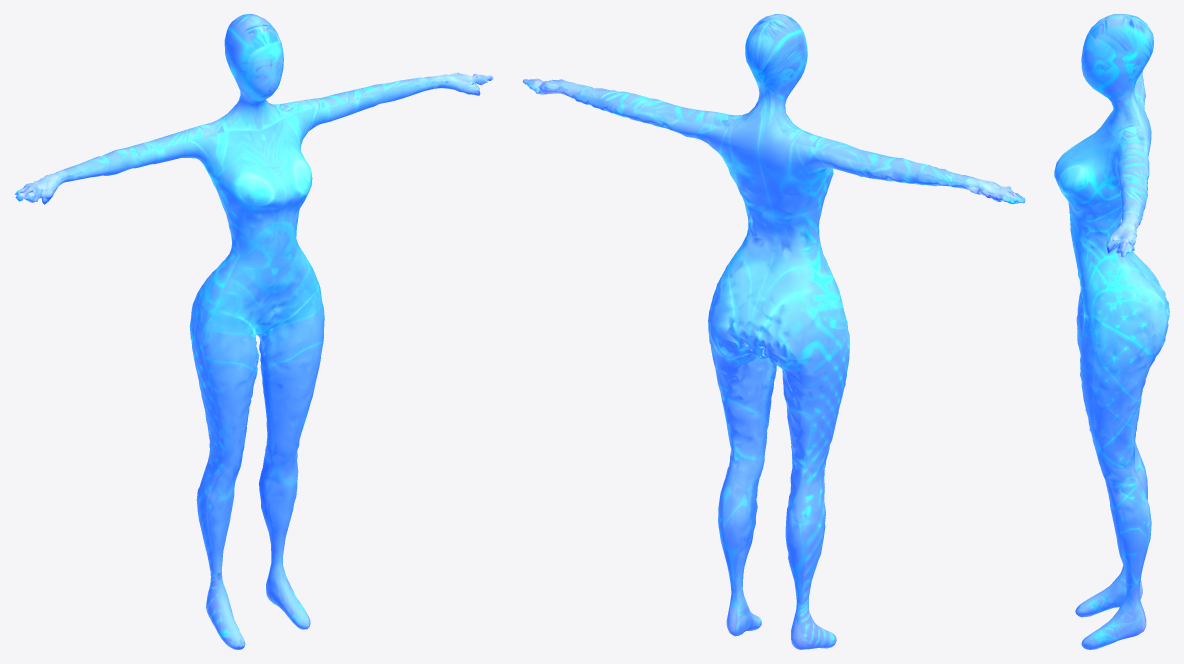
Rendered from synk-female.glb.
3 renders of one model, left to right at view 1: azimuth 30°, elevation 25°; view 2: azimuth 150°, elevation 25°; view 3: azimuth 270°, elevation 25°, orthographic. The views are drawn at different scales.
Visible parts, largest first — view 1: Mesh_0; view 2: Mesh_0; view 3: Mesh_0.
Part boxes in pixels (x1,y1,x2,y2): Mesh_0: (14,14,493,649); Mesh_0: (522,14,1025,649); Mesh_0: (1054,14,1169,649).
Bounding box in the file's own units: 13.18 × 15.99 × 2.71.
1 material, 1 textured.
